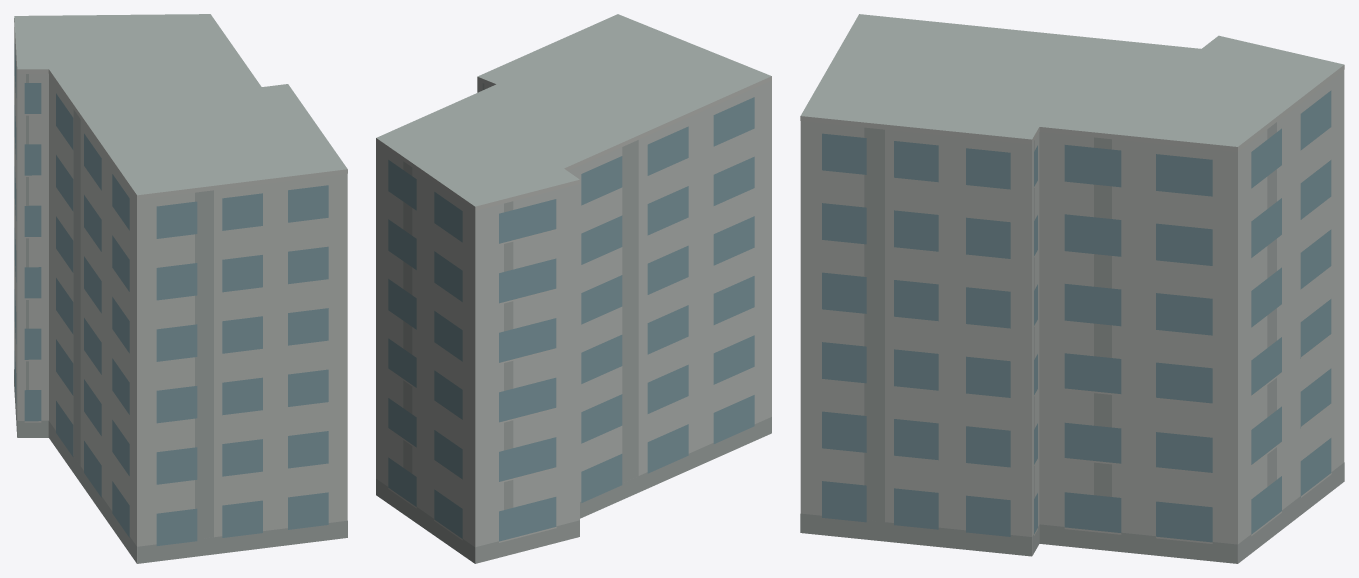
File: survey-upis-32799882.glb
3 views of the same model, side by side, from view 1: azimuth 30°, elevation 25°; view 2: azimuth 150°, elevation 25°; view 3: azimuth 270°, elevation 25° (orthographic). The views are drawn at different scales.
Visible parts, largest first — view 1: survey-upis-32799882.tmp; view 2: survey-upis-32799882.tmp; view 3: survey-upis-32799882.tmp.
Part boxes in pixels (<box>): survey-upis-32799882.tmp: <box>14,14,347,563</box>; survey-upis-32799882.tmp: <box>376,14,771,563</box>; survey-upis-32799882.tmp: <box>800,14,1344,563</box>.
Size of the model in its own units: 13.65 by 19.94 by 23.6.
